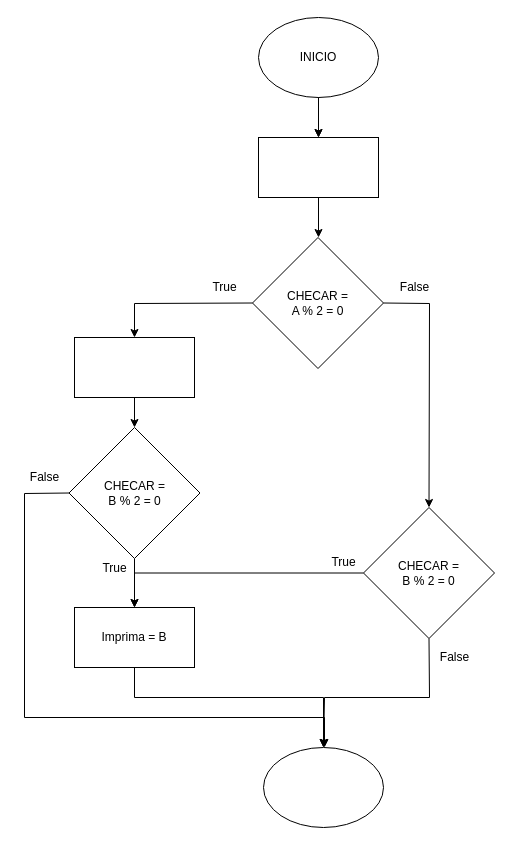
Some shapes in this 512 by 845 pixel diagram are drawn without their labels. The box of each missing label's shape, as (x1, y1, x2, y2) in pixels:
FIM: (262, 746, 384, 828)
Imprima = A: (74, 336, 194, 398)
LER = A: (258, 136, 378, 198)
